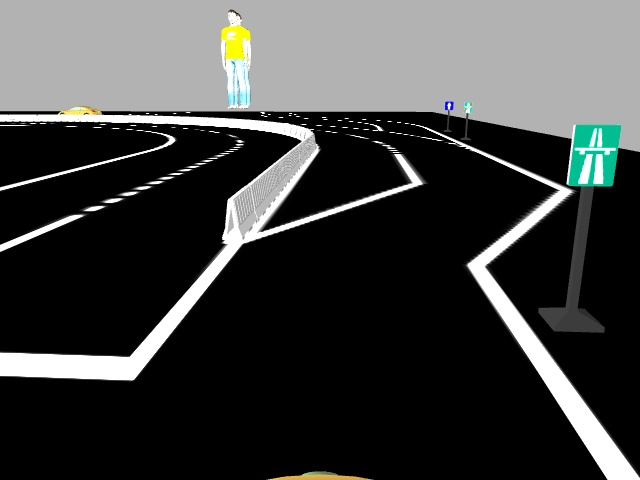HighwayEntrance: (569, 121, 615, 185)
